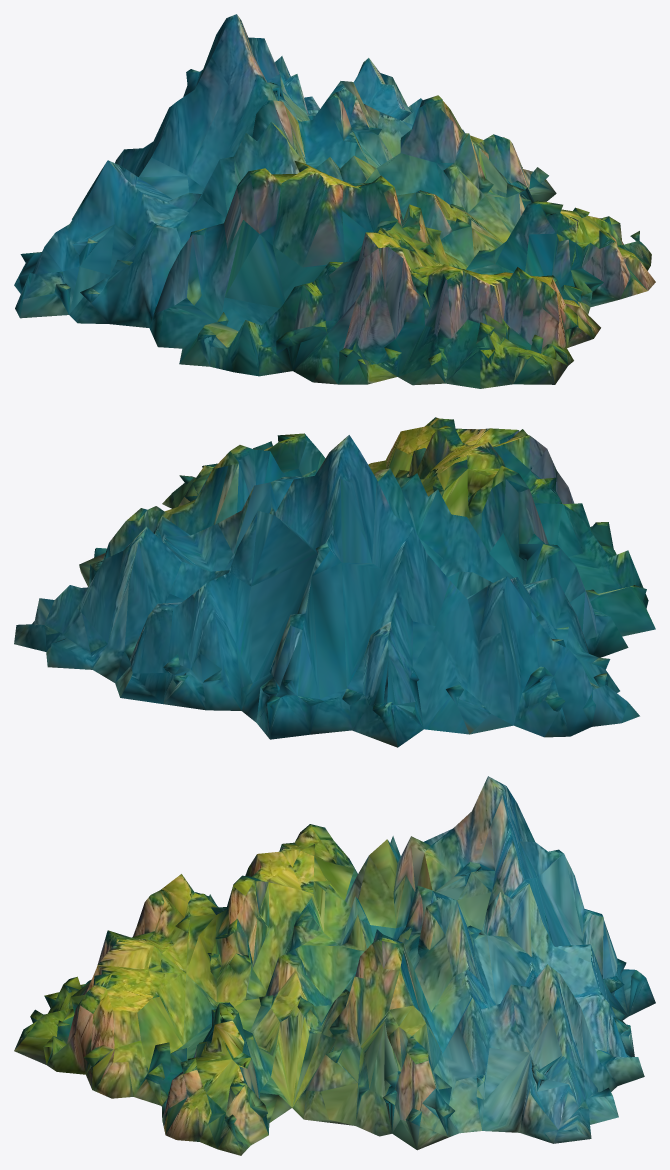
File: midMountain.glb
3 renders of one model, top to bottom at view 1: azimuth 30°, elevation 25°; view 2: azimuth 150°, elevation 25°; view 3: azimuth 270°, elevation 25°, orthographic. The views are drawn at different scales.
Parts seen in each view (by area): view 1: MountainMesh.004; view 2: MountainMesh.004; view 3: MountainMesh.004.
Boxes of the visible parts, x1,y1,x2,y2 form: MountainMesh.004: (14,14,655,388); MountainMesh.004: (14,417,655,747); MountainMesh.004: (14,776,655,1155).
Bounding box in the file's own units: 2 × 0.8 × 2.
1 material, 1 textured.
